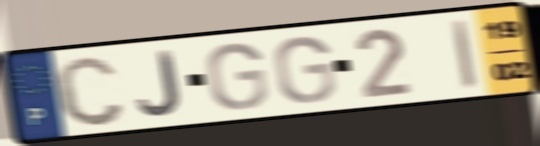2: (353, 26, 414, 101)
C: (52, 52, 128, 129)
G: (271, 33, 339, 106), (203, 40, 271, 112)
I: (449, 16, 480, 91)
J: (134, 48, 184, 118)
